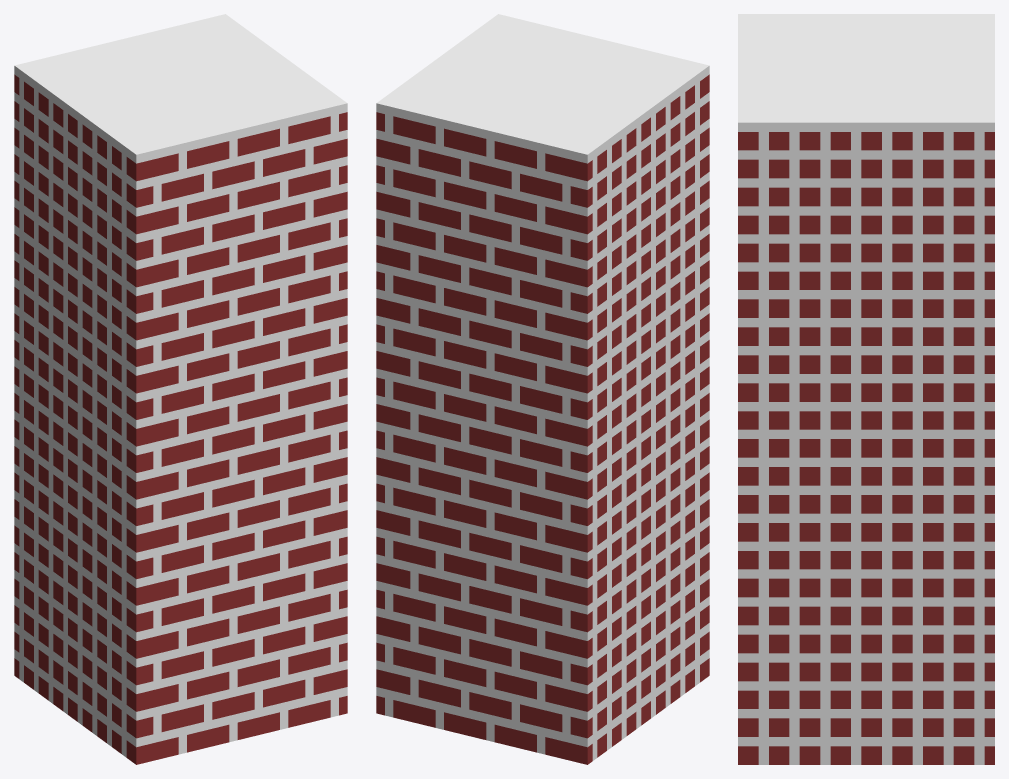
File: pagar.fbx
The picture shows the model from 3 angles, left to right: view 1: azimuth 30°, elevation 25°; view 2: azimuth 150°, elevation 25°; view 3: azimuth 270°, elevation 25°; orthographic projection. The views are drawn at different scales.
Parts seen in each view (by area): view 1: Untitled; view 2: Untitled; view 3: Untitled.
Boxes of the visible parts, bbox=[...] form: Untitled: bbox=[14, 14, 347, 764]; Untitled: bbox=[376, 14, 709, 764]; Untitled: bbox=[738, 14, 994, 764].
Size of the model in its own units: 250 by 690 by 250.
1 material, 1 textured.
